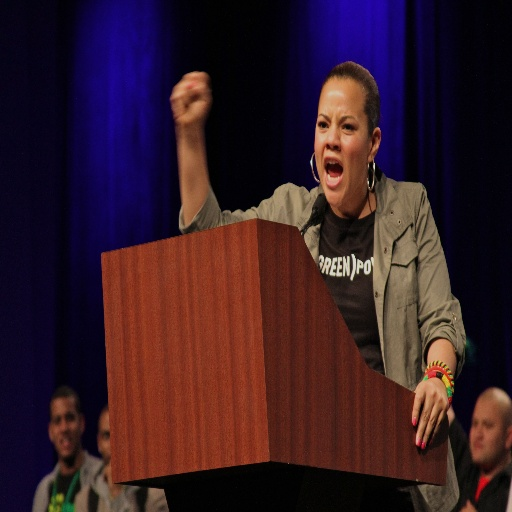hand: (165, 70, 220, 230), (411, 378, 451, 450), (101, 461, 124, 498)
